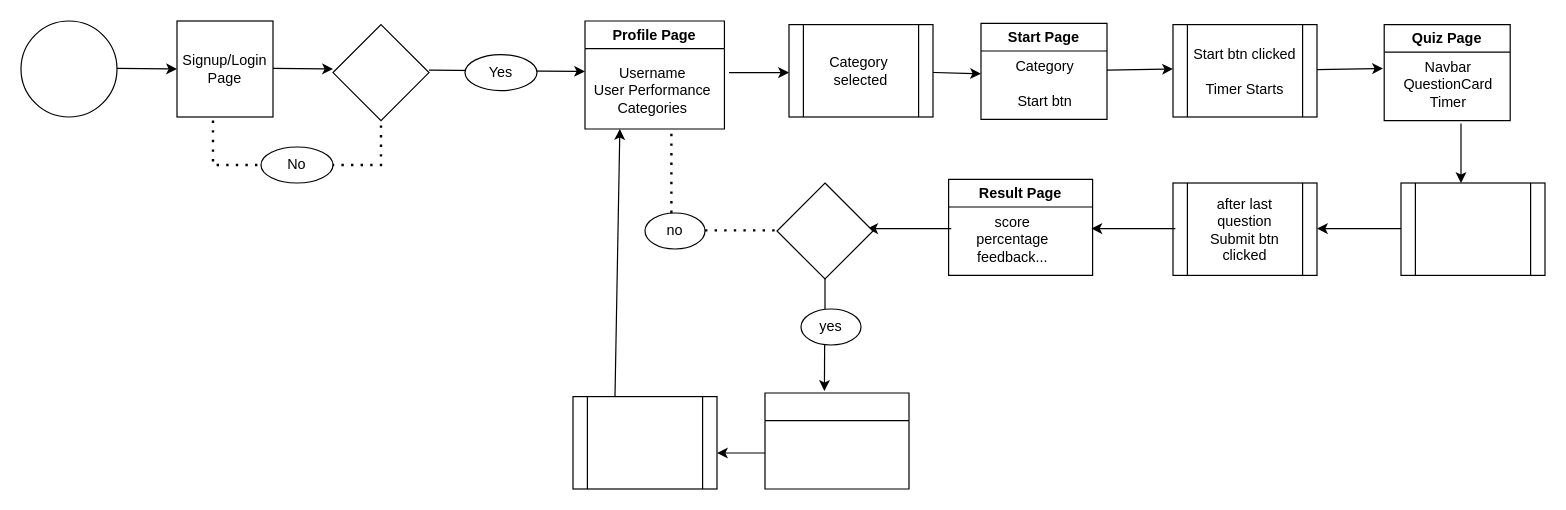
Some shapes in this 1566 by 510 pixel diagram are drawn without their labels. The shapes that lost their labels are listed below. From the top down, each one's centre as x and y in pixels, then its label:
At point (68, 68): "Homepage".
At point (380, 72): "user logged in".
At point (824, 230): "feedback ?".
At point (1472, 228): "Next btn clicked Next question displayed".
At point (644, 442): "feedback submitted".
At point (836, 440): "Feedback Page".
